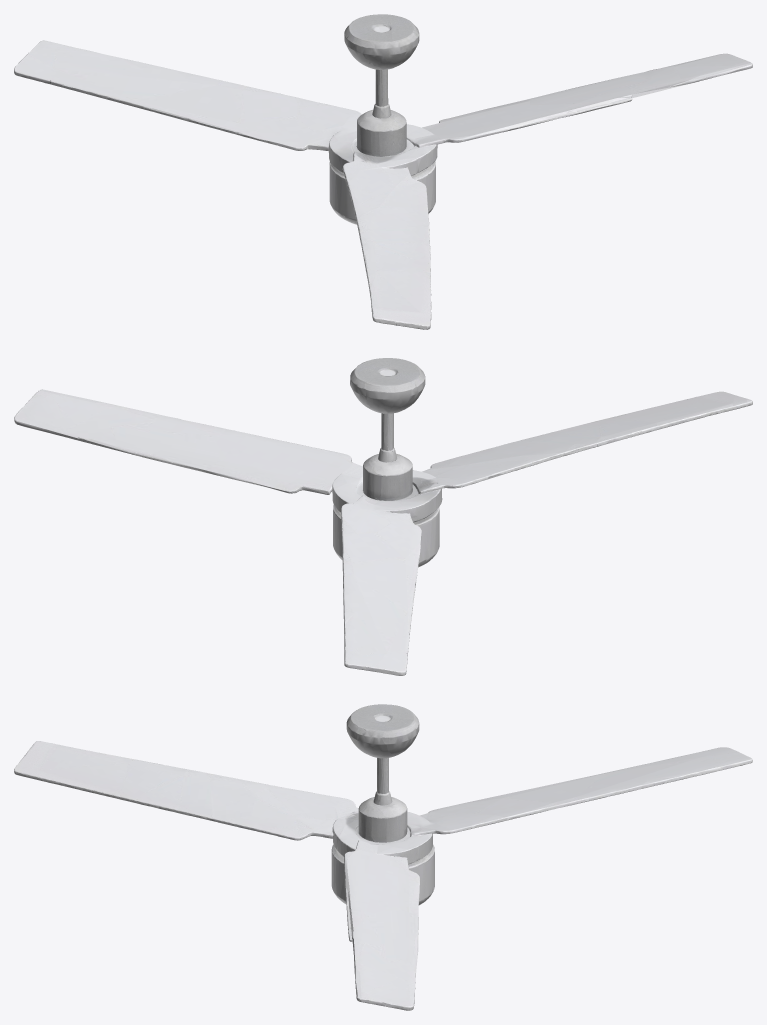
The model's file is westinghouse-fans-73179-2848.glb.
3 renders of one model, top to bottom at view 1: azimuth 30°, elevation 25°; view 2: azimuth 150°, elevation 25°; view 3: azimuth 270°, elevation 25°, orthographic. The views are drawn at different scales.
Bounding box in the file's own units: 1.59 × 0.51 × 1.9.
1 material, 1 textured.
